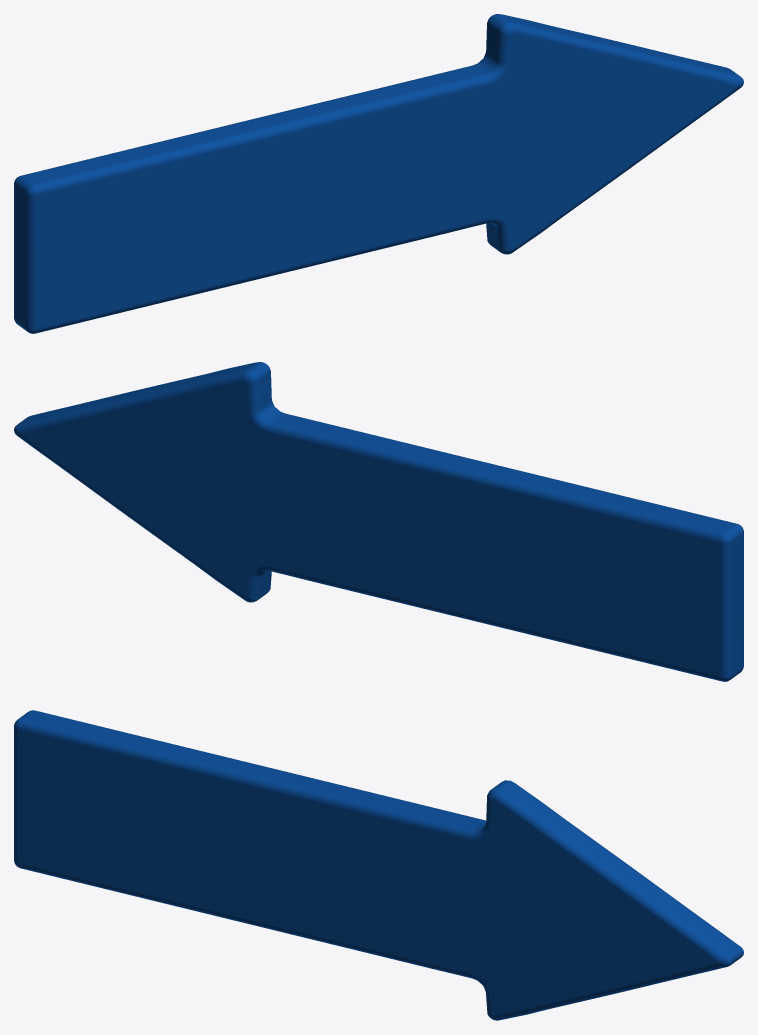
File: arrow.fbx
The picture shows the model from 3 angles, top to bottom: view 1: azimuth 30°, elevation 25°; view 2: azimuth 150°, elevation 25°; view 3: azimuth 330°, elevation 25°; orthographic projection.
Parts seen in each view (by area): view 1: node_id30; view 2: node_id30; view 3: node_id30.
Part boxes in pixels (x1=…): node_id30: x1=14, y1=14, x2=743, y2=333; node_id30: x1=14, y1=362, x2=743, y2=681; node_id30: x1=14, y1=710, x2=743, y2=1020.
Size of the model in its own units: 0.512 by 0.1577 by 0.0236.
1 material, 1 textured.
